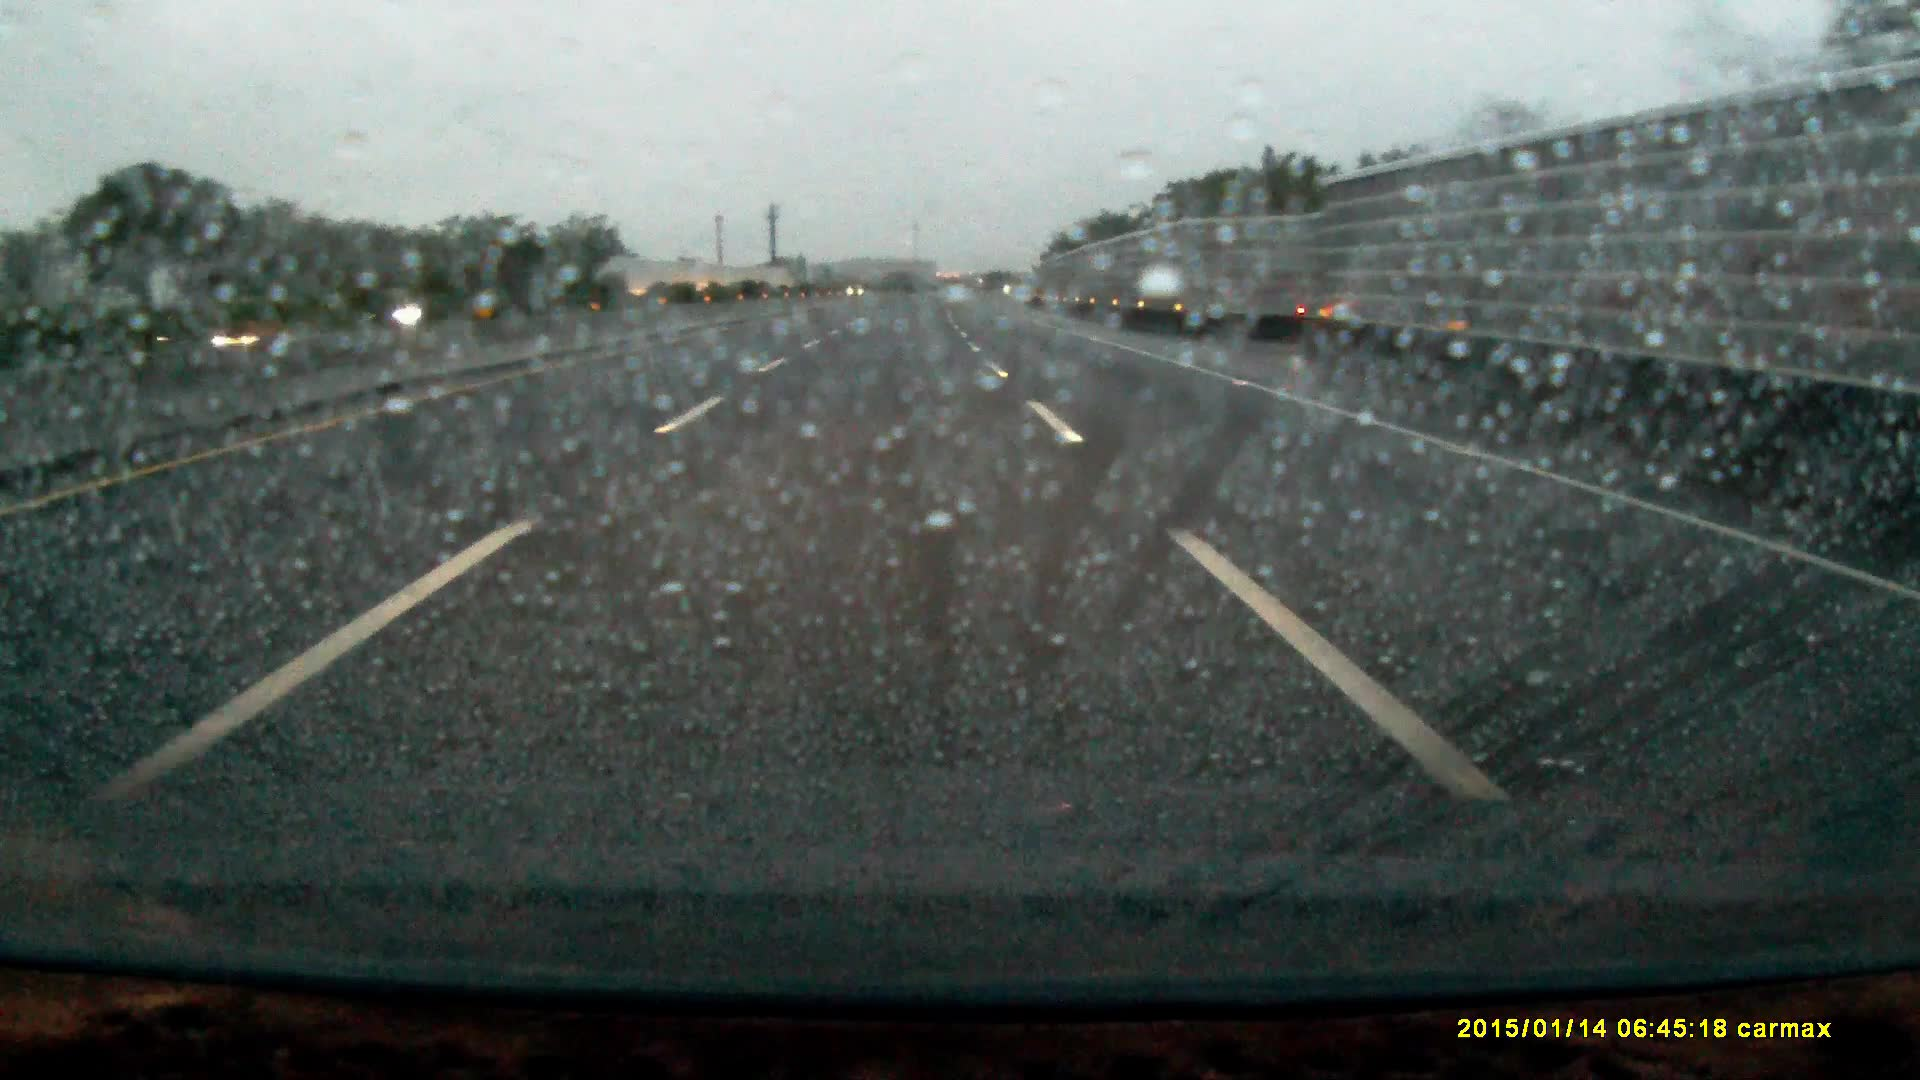vehicle: (331, 293, 422, 335)
